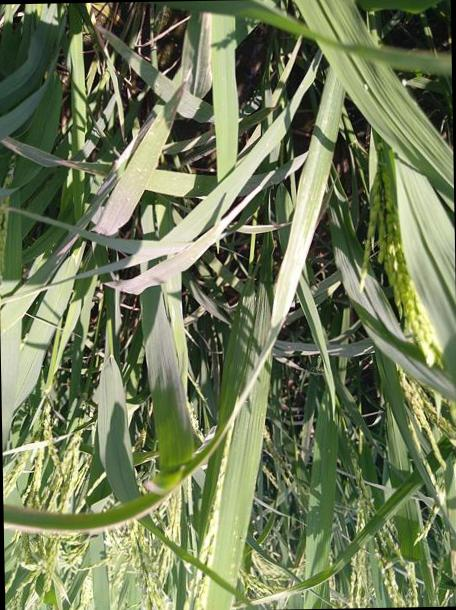Leaf Streak: (183, 8, 215, 98)
